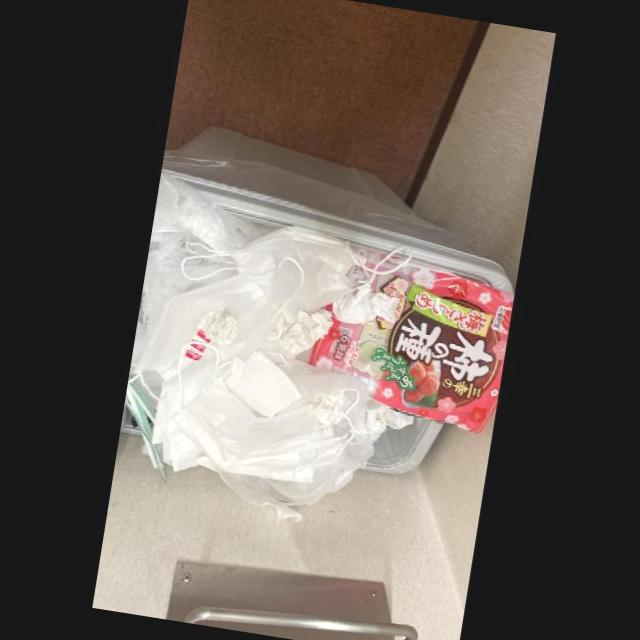bao_bi_thuc_pham: (309, 261, 514, 433)
giay: (267, 307, 334, 358), (332, 284, 400, 328), (364, 398, 415, 441), (198, 305, 238, 347)
khau_trang: (162, 330, 360, 482), (179, 226, 412, 312), (134, 274, 273, 404)
